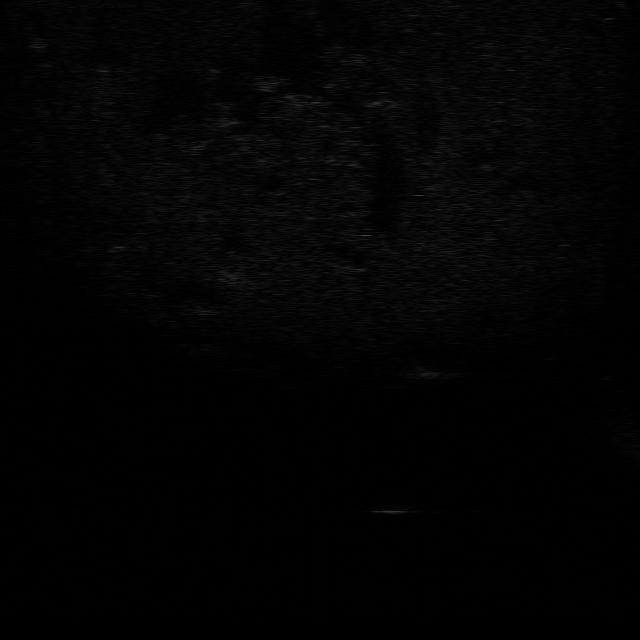cube: (370, 503, 415, 515)
square cage: (406, 364, 460, 384)
